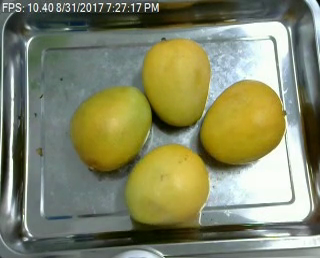Mango: (201, 79, 288, 162), (68, 86, 151, 171), (126, 143, 210, 225), (142, 39, 210, 124)
